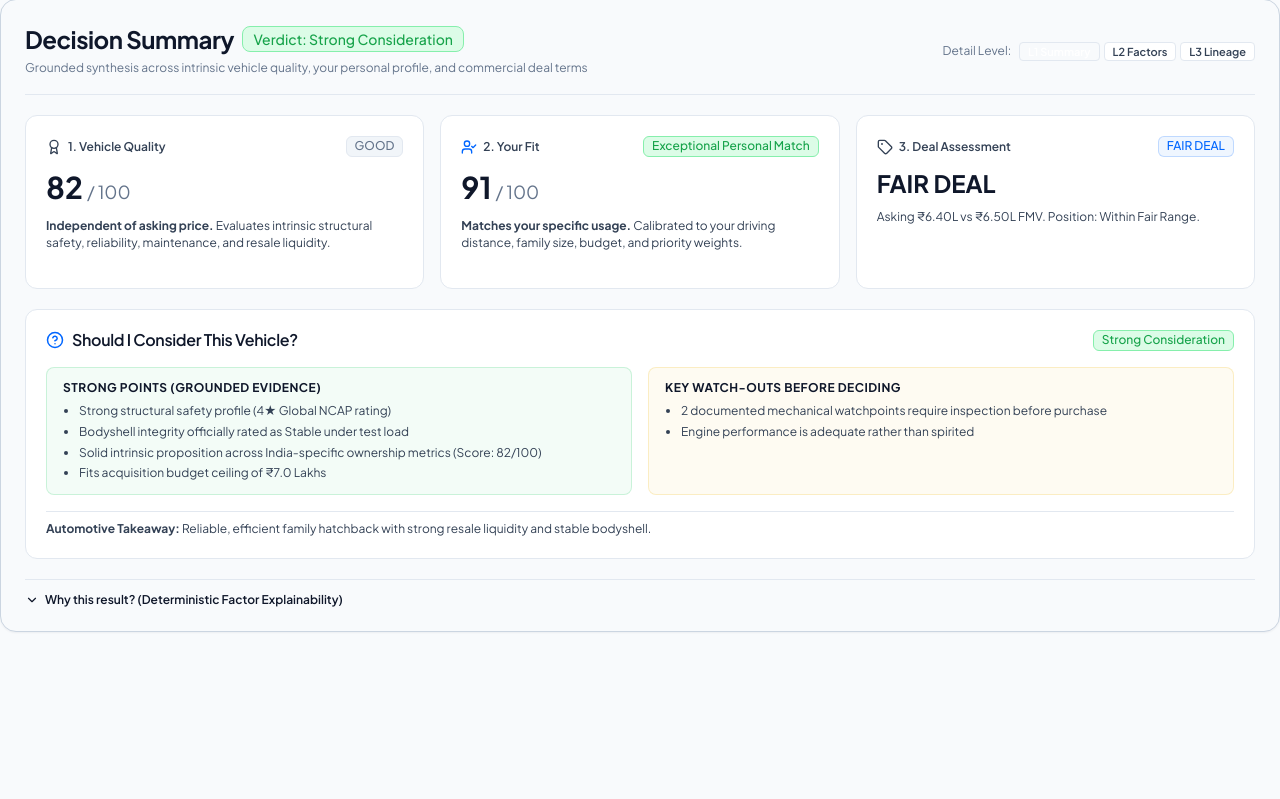
it: Phase 18 — Production Decision Experience & Trust UX Tests › provides Section 6 deterministic "Why this result?" factor explainability without decorative AI
Check: the text "Why this result? (Deterministic Factor Explainability)" is shown, box [45,592,343,607]
Click the button "Why this result? (Deterministic Factor Explainability)": (184, 600) [25,592,343,607]
(page scrolled)
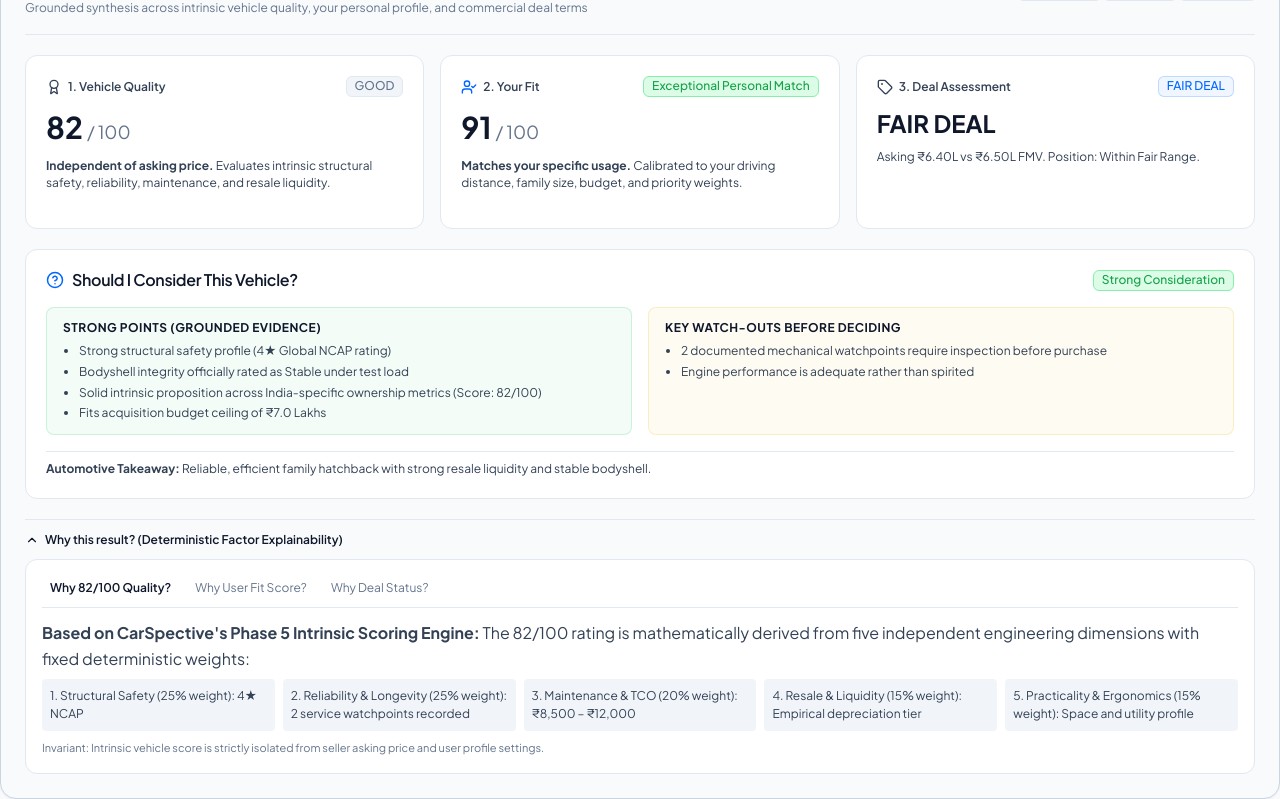
Check: the text "Based on CarSpective's Phase 5 Intrinsic Scoring Engine:" is shown, box [42,622,480,643]
Check: the text "1. Structural Safety (25% weight): 4★ NCAP" is shown, box [42,679,275,731]
Check: the text "Reliability & Longevity (25% weight)" is shown, box [291,688,507,703]
